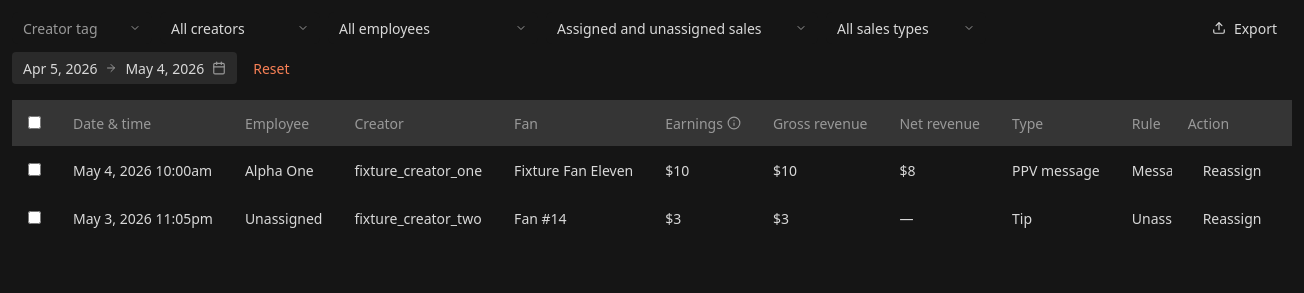
Scenario: SalesRecords › draws no native select, even with Reassign and the batch bar open
Click the button "Reassign" in the row of "May 4, 2026 10:00am" at [1232, 170], box [1187,154,1276,186]
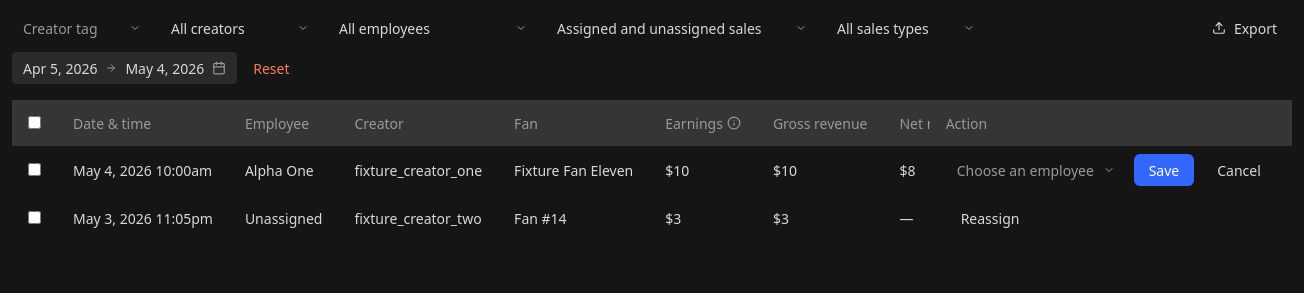
Click the checkbox named "Select sale 41" at [34, 217], box [28,210,41,224]
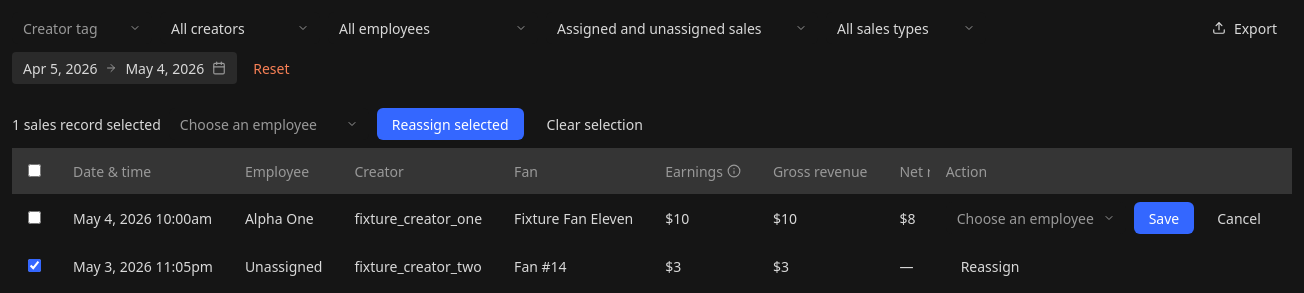
Now the element named "Batch reassign" is shown, box [12,108,658,140]
